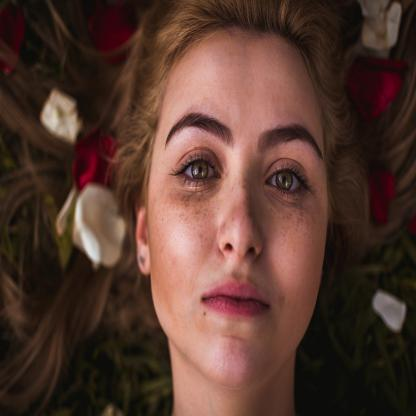Eye: (169, 142, 224, 197), (262, 150, 315, 204)
Mouth: (199, 270, 274, 325)
Nose: (218, 166, 265, 262)
